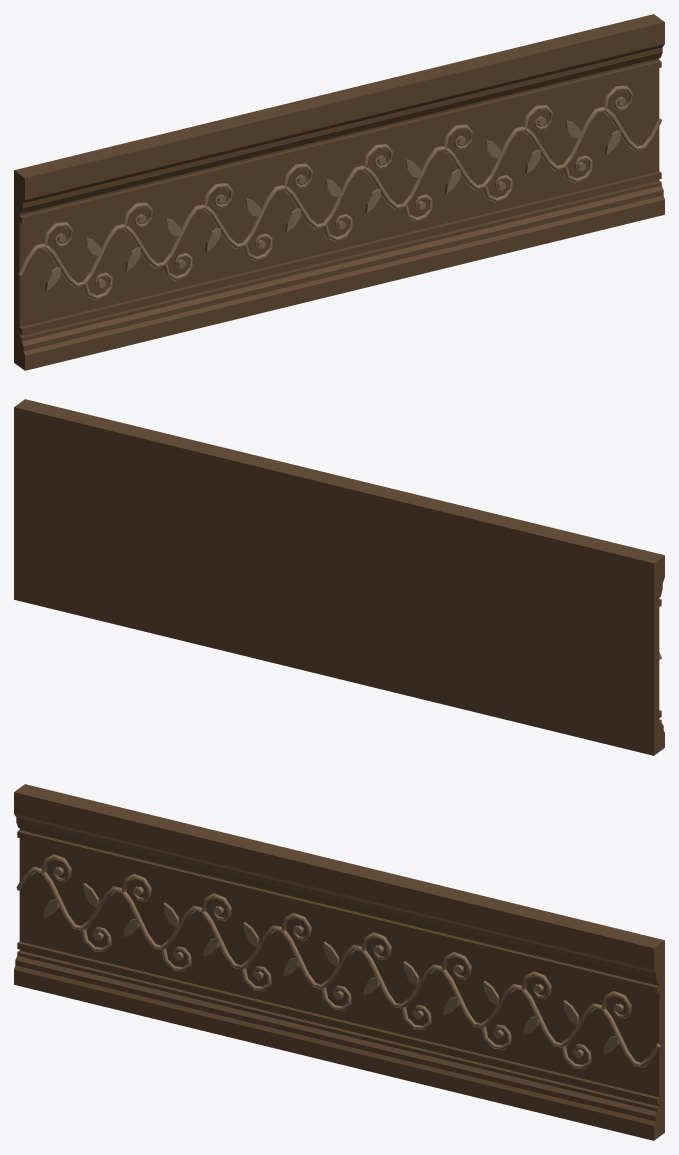
Rendered from stage_lip.glb.
The picture shows the model from 3 angles, top to bottom: view 1: azimuth 30°, elevation 25°; view 2: azimuth 150°, elevation 25°; view 3: azimuth 330°, elevation 25°; orthographic projection.
Parts seen in each view (by area): view 1: dark_wood__stage_lip__solid, wood__stage_lip__ns; view 2: dark_wood__stage_lip__solid; view 3: dark_wood__stage_lip__solid, wood__stage_lip__ns.
Boxes of the visible parts, box(x1,y1,x2,y2) form: dark_wood__stage_lip__solid: box(14, 14, 664, 370); wood__stage_lip__ns: box(18, 85, 661, 300); dark_wood__stage_lip__solid: box(14, 399, 664, 755); dark_wood__stage_lip__solid: box(14, 784, 664, 1140); wood__stage_lip__ns: box(16, 854, 660, 1069).
Size of the model in its own units: 4.03 by 1.15 by 0.12.
